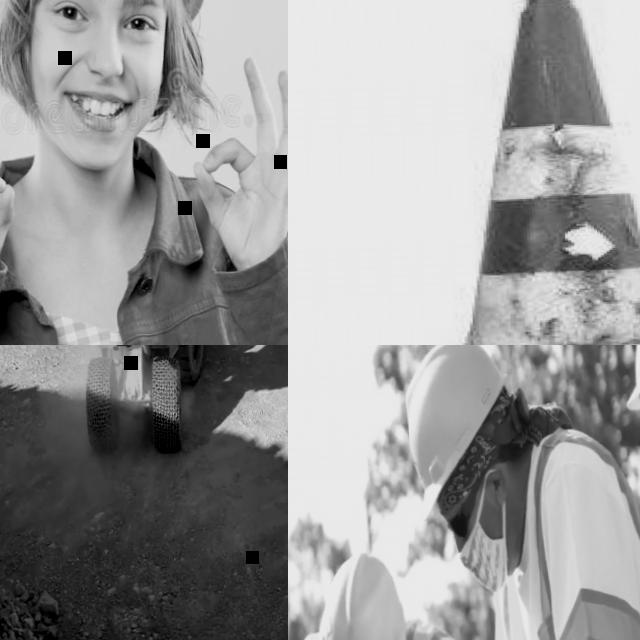Hardhat: (402, 345, 510, 519), (310, 552, 409, 640)
Mask: (454, 468, 511, 596)
NO-Mask: (38, 76, 157, 168)
NO-Safety Vest: (0, 161, 250, 345)
Person: (0, 0, 288, 345), (400, 345, 640, 640), (288, 546, 497, 640)
Safety Cone: (288, 0, 640, 345)
Safety Vest: (473, 420, 640, 640)
vehicle: (48, 345, 222, 466)
